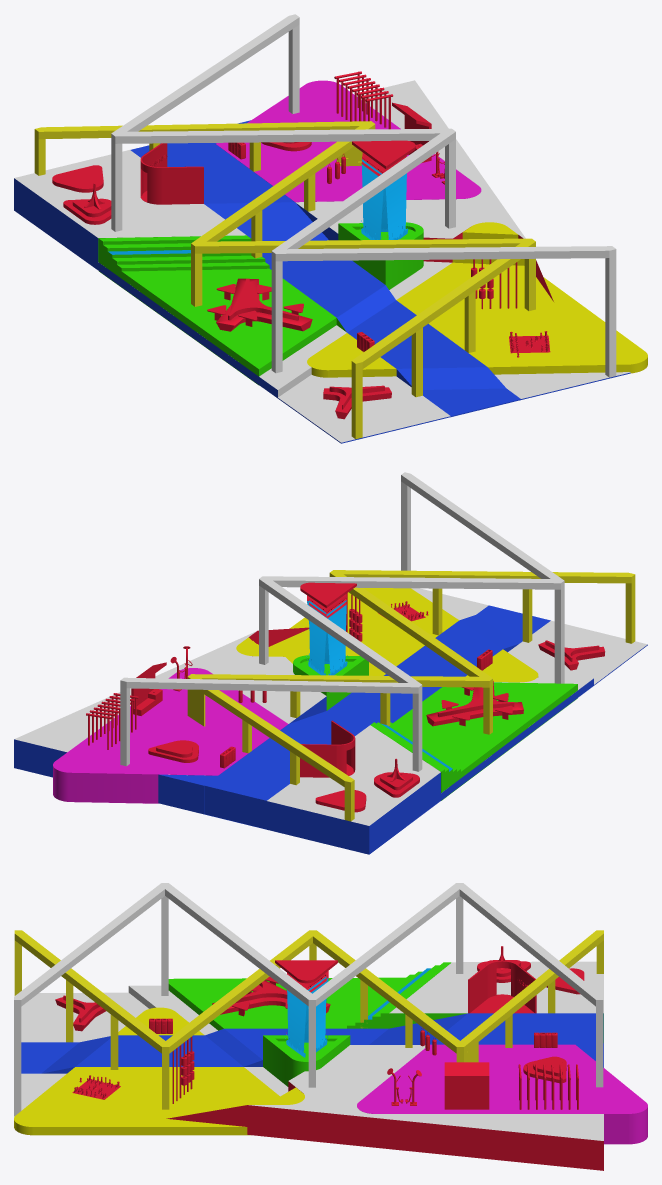
File: Studio VIIForm Groen geschtst Uitwerking Experience Twin 2025 1_updated.fbx
The picture shows the model from 3 angles, top to bottom: view 1: azimuth 30°, elevation 25°; view 2: azimuth 150°, elevation 25°; view 3: azimuth 270°, elevation 25°; orthographic projection. The views are drawn at different scales.
Visible parts, largest first — view 1: Studio VIIForm Groen geschetst Uitwerking Experience Twin 20; view 2: Studio VIIForm Groen geschetst Uitwerking Experience Twin 20; view 3: Studio VIIForm Groen geschetst Uitwerking Experience Twin 20.
Part boxes in pixels (left/top/right/bottom): Studio VIIForm Groen geschetst Uitwerking Experience Twin 20: left=14, top=14, right=647, bottom=443; Studio VIIForm Groen geschetst Uitwerking Experience Twin 20: left=14, top=472, right=647, bottom=854; Studio VIIForm Groen geschetst Uitwerking Experience Twin 20: left=14, top=883, right=647, bottom=1170.
Size of the model in its own units: 2856 by 874 by 4259.
